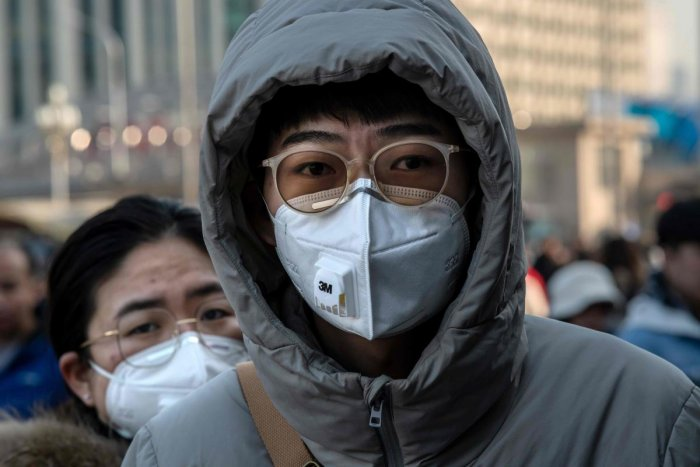n95: (261, 178, 476, 342), (95, 326, 261, 438)
